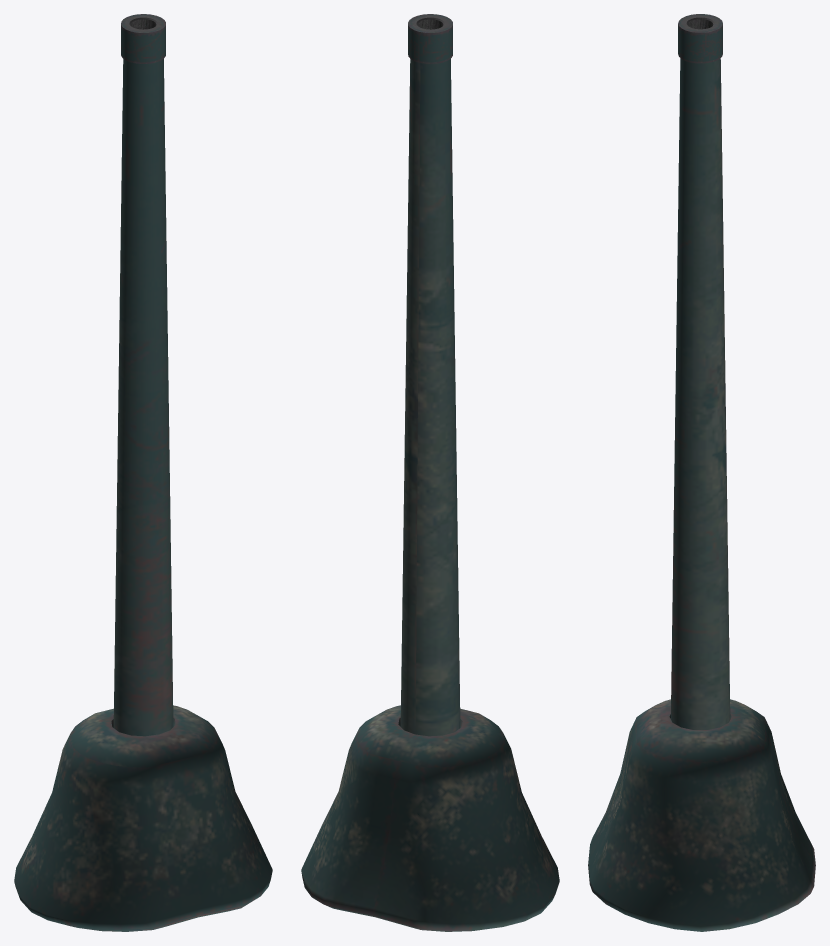
File: Gun_01.glb
The picture shows the model from 3 angles, left to right: view 1: azimuth 30°, elevation 25°; view 2: azimuth 150°, elevation 25°; view 3: azimuth 270°, elevation 25°; orthographic projection.
Parts seen in each view (by area): view 1: set_0_group_0; view 2: set_0_group_0; view 3: set_0_group_0.
Part boxes in pixels (<box>): set_0_group_0: <box>14,14,272,931</box>; set_0_group_0: <box>301,14,559,931</box>; set_0_group_0: <box>588,14,815,931</box>.
Bounding box in the file's own units: 0.9226 × 3.35 × 0.8045.
1 material, 1 textured.
